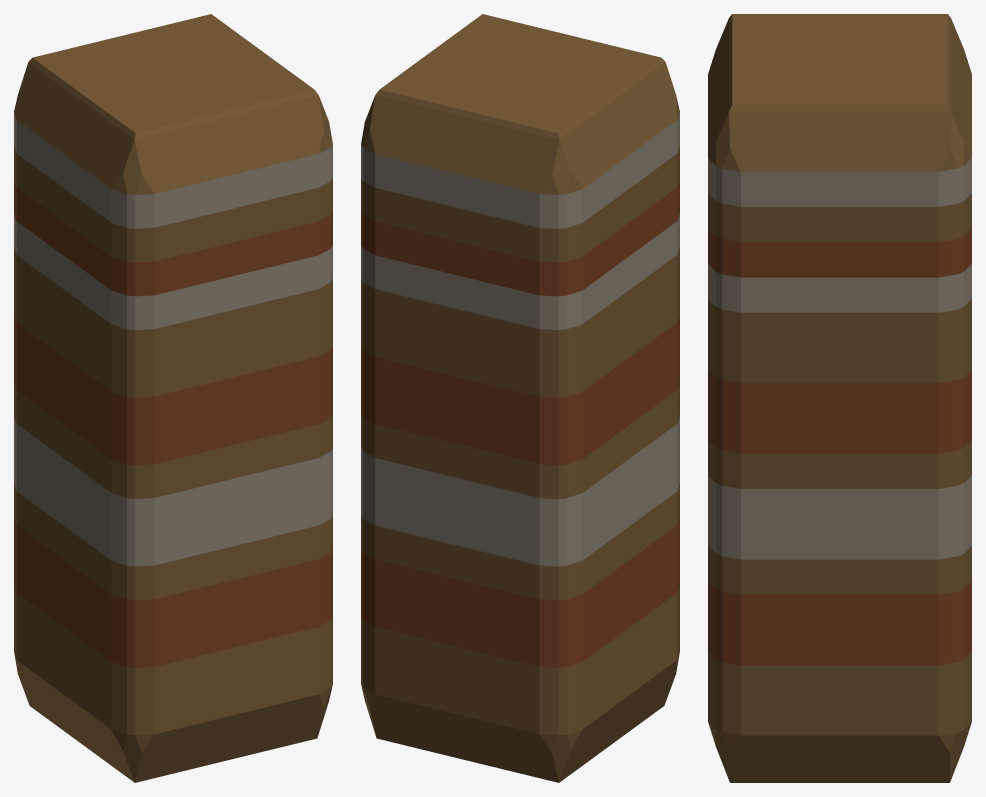
Rendered from basicPillar.fbx.
The picture shows the model from 3 angles, left to right: view 1: azimuth 30°, elevation 25°; view 2: azimuth 150°, elevation 25°; view 3: azimuth 270°, elevation 25°; orthographic projection. The views are drawn at different scales.
Parts seen in each view (by area): view 1: Cube; view 2: Cube; view 3: Cube.
Part boxes in pixels (<box>): Cube: <box>14,14,332,782</box>; Cube: <box>361,14,679,782</box>; Cube: <box>708,14,971,782</box>.
Size of the model in its own units: 200 by 566 by 200.
